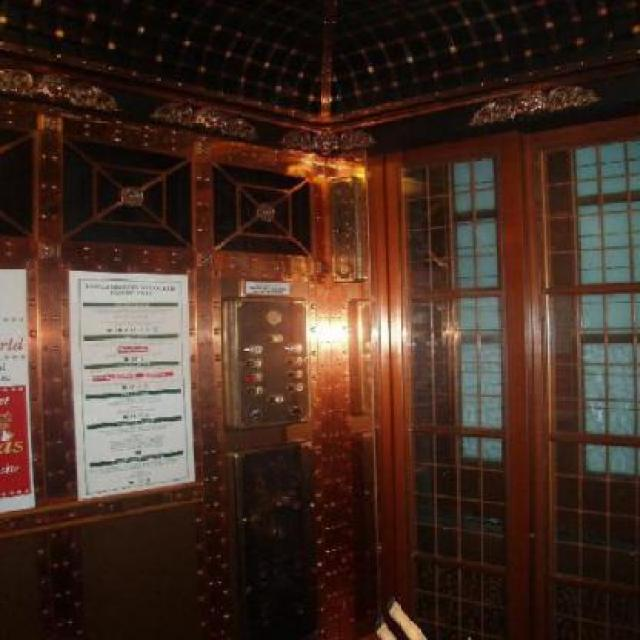Person: (372, 592, 432, 639)
